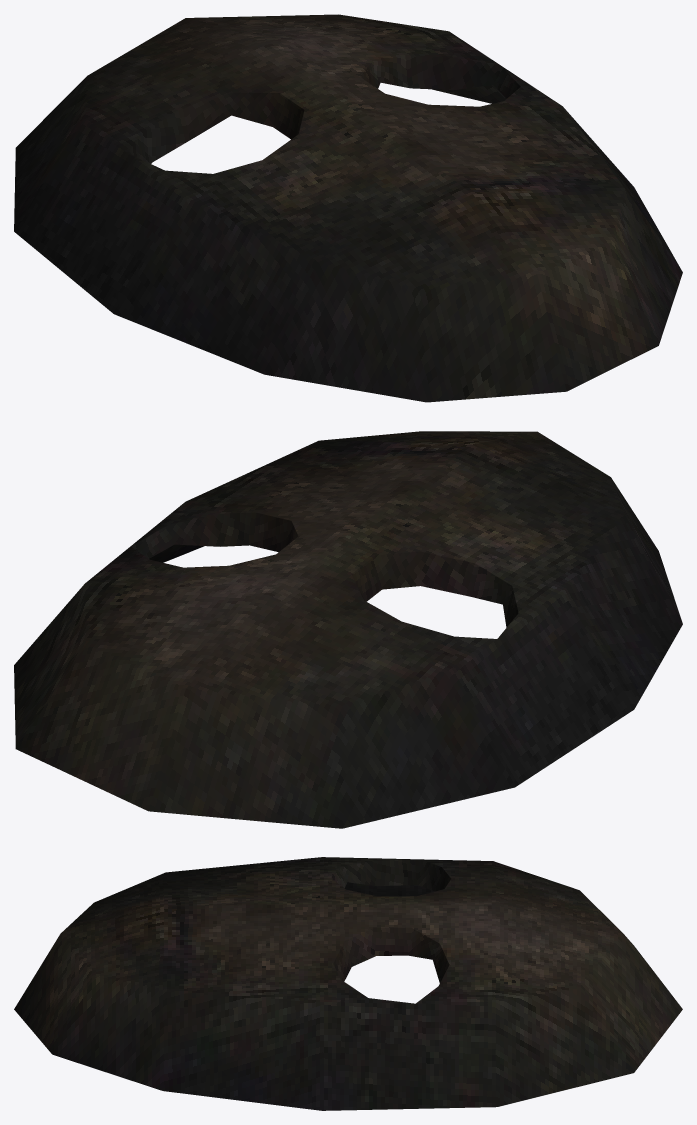
The model's file is mask_mx_3.glb.
3 views of the same model, one above another, from view 1: azimuth 30°, elevation 25°; view 2: azimuth 150°, elevation 25°; view 3: azimuth 270°, elevation 25° (orthographic). The views are drawn at different scales.
Visible parts, largest first — view 1: mask_mx_3; view 2: mask_mx_3; view 3: mask_mx_3.
Part boxes in pixels (box(x1,y1,x2,y2)): mask_mx_3: box(14, 14, 682, 402); mask_mx_3: box(14, 431, 682, 828); mask_mx_3: box(14, 857, 682, 1110).
Bounding box in the file's own units: 0.2297 × 0.0554 × 0.3198.
Materials: 1 (1 with a texture image).
